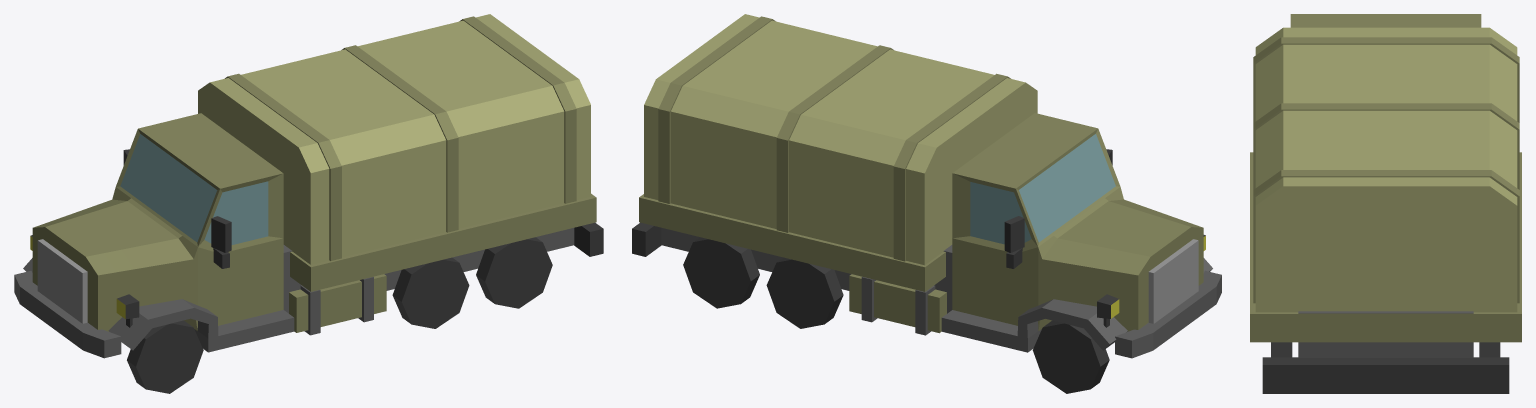
Rendered from truck.glb.
The picture shows the model from 3 angles, left to right: view 1: azimuth 30°, elevation 25°; view 2: azimuth 150°, elevation 25°; view 3: azimuth 270°, elevation 25°; orthographic projection. The views are drawn at different scales.
Parts seen in each view (by area): view 1: Cube.004; view 2: Cube.004; view 3: Cube.004.
Part boxes in pixels (bbox=[...]): Cube.004: bbox=[14, 14, 603, 393]; Cube.004: bbox=[632, 14, 1221, 393]; Cube.004: bbox=[1250, 14, 1521, 393].
Bounding box in the file's own units: 10.85 × 4.37 × 4.42.
